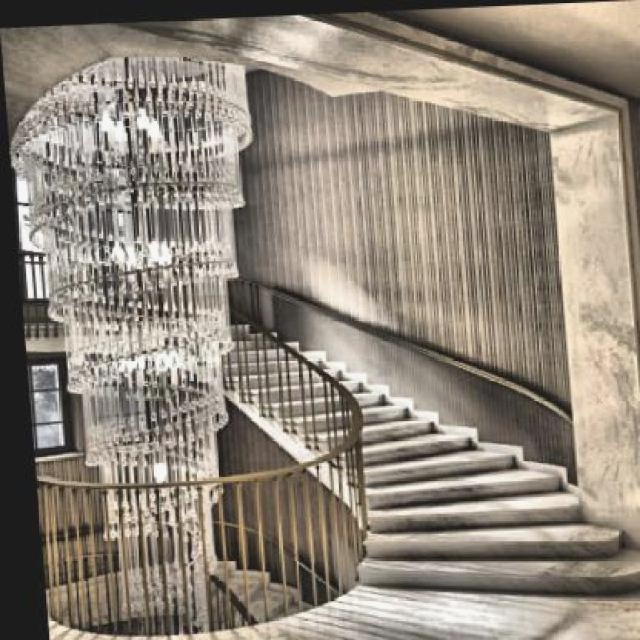stair: (228, 332, 537, 492)
